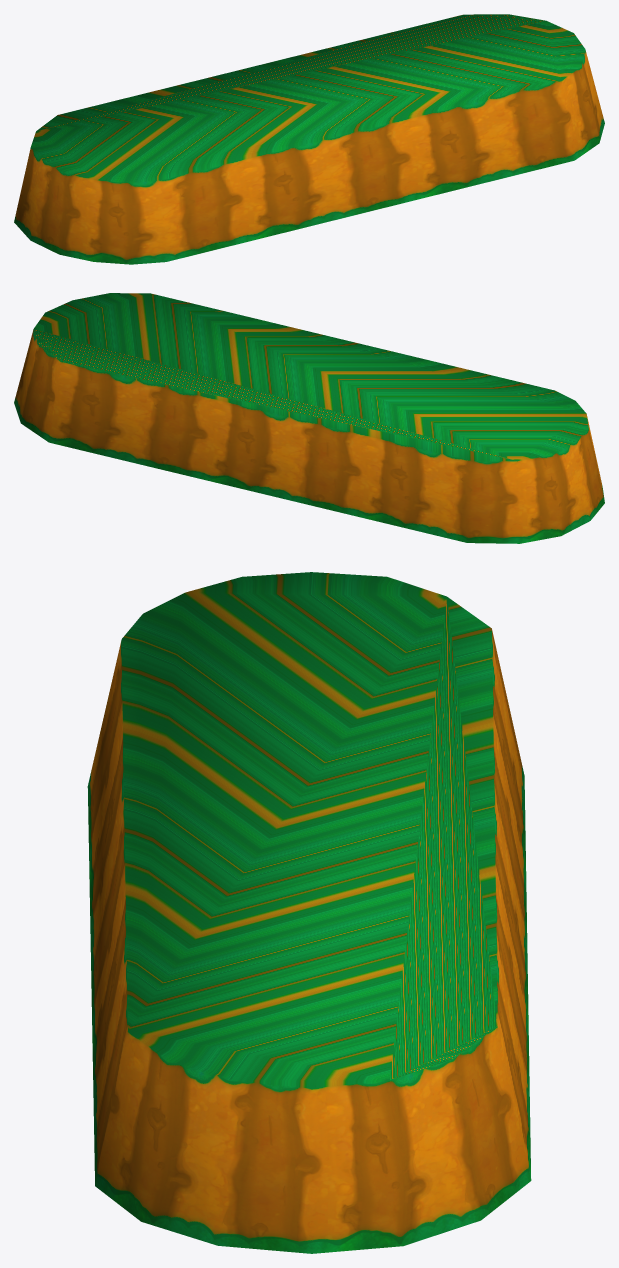
File: Hill01_d01_col.FBX
3 renders of one model, top to bottom at view 1: azimuth 30°, elevation 25°; view 2: azimuth 150°, elevation 25°; view 3: azimuth 270°, elevation 25°, orthographic. The views are drawn at different scales.
Visible parts, largest first — view 1: Hill01_d01_col; view 2: Hill01_d01_col; view 3: Hill01_d01_col.
Part boxes in pixels (bbox=[...]): Hill01_d01_col: bbox=[14, 14, 604, 264]; Hill01_d01_col: bbox=[14, 293, 604, 543]; Hill01_d01_col: bbox=[87, 572, 531, 1253].
Size of the model in its own units: 1995 by 256 by 685.
1 material, 1 textured.
